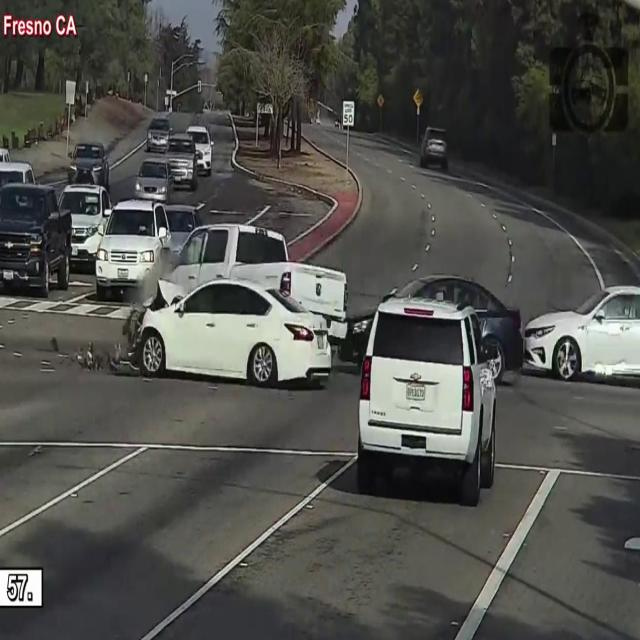accident: (115, 206, 353, 410)
non_accident: (0, 155, 110, 305), (122, 100, 220, 204)
